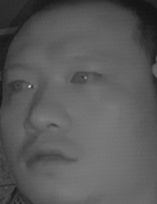eye: (68, 66, 102, 85), (4, 74, 36, 93)
mouth: (19, 138, 80, 173)
